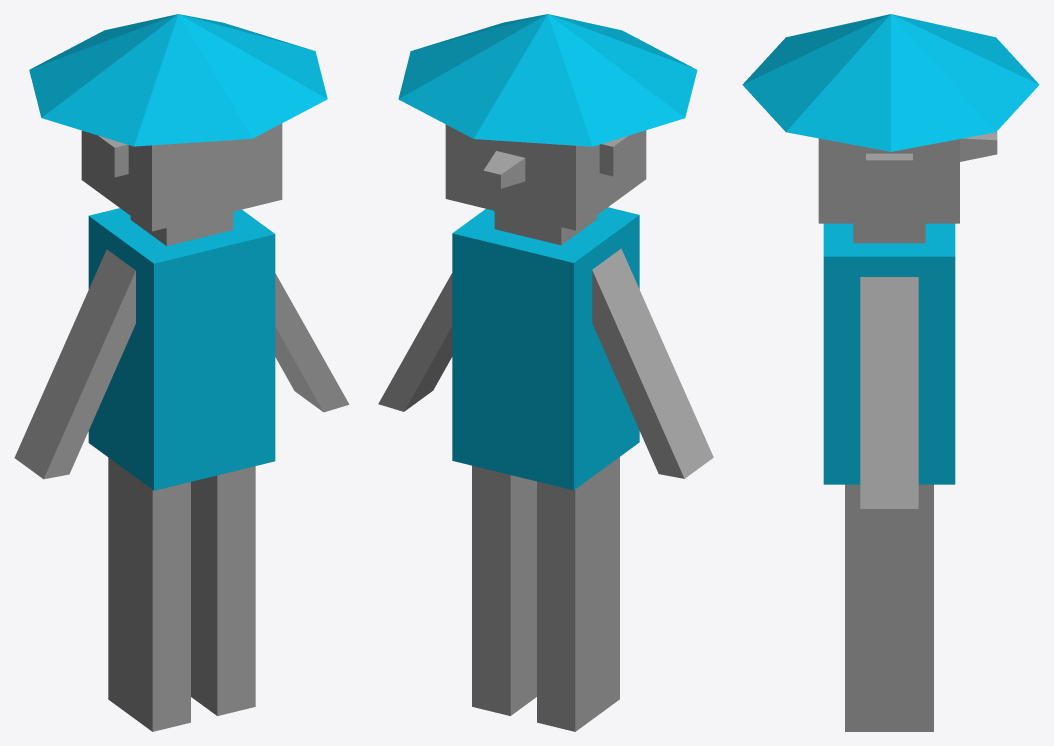
The model's file is Asset_NPC_Low_2.fbx.
3 renders of one model, left to right at view 1: azimuth 30°, elevation 25°; view 2: azimuth 150°, elevation 25°; view 3: azimuth 270°, elevation 25°, orthographic.
Parts seen in each view (by area): view 1: NPC_2; view 2: NPC_2; view 3: NPC_2.
Boxes of the visible parts, <box> form: NPC_2: <box>14,14,349,731</box>; NPC_2: <box>378,14,713,731</box>; NPC_2: <box>742,14,1039,731</box>.
Bounding box in the file's own units: 0.7415 × 1.6 × 0.622.
